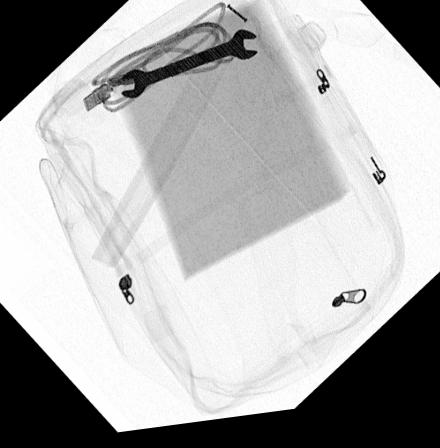Wrench: (116, 34, 259, 103)
